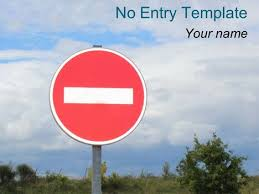No entry: (48, 47, 147, 146)
